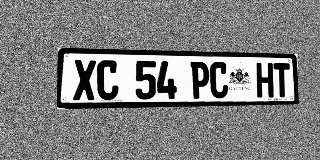4: (157, 61, 177, 99)
5: (136, 61, 156, 99)
C: (97, 60, 119, 100), (210, 62, 228, 98)
H: (256, 63, 273, 98)
P: (190, 62, 209, 99)
T: (273, 63, 290, 97)
X: (73, 60, 96, 100)
